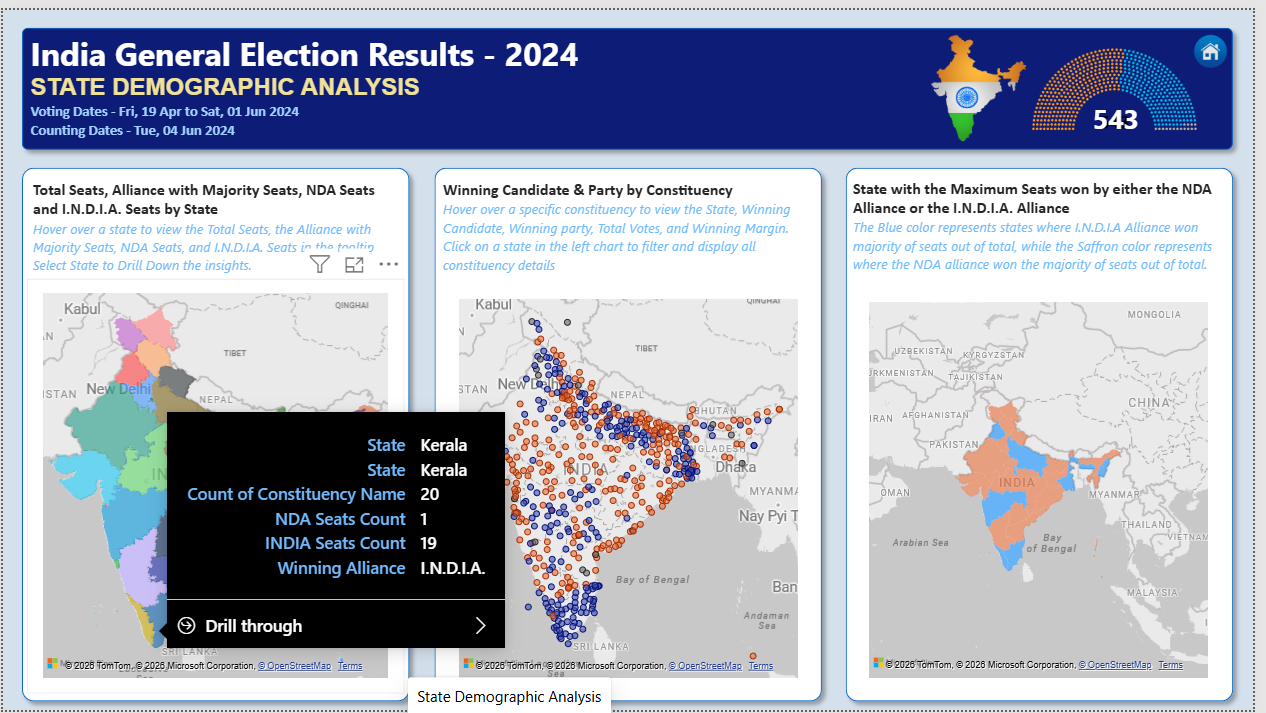

Layout of this report page (visuals, bound fields, positions):
{"tool":"powerbi","page":{"name":"State Demographic Analysis","canvas":[1250,700],"ordinal":2},"visuals":[{"type":"shape","box":[10,8.8,1228.8,140],"z":0},{"type":"textbox","box":[27.5,21.2,1113.8,116.2],"z":1000},{"type":"shape","box":[9.5,148.6,405.4,551.6],"z":2000},{"type":"image","box":[1026,16.6,170,126],"z":3000},{"type":"image","box":[923.7,3.6,101.1,148.6],"z":4000},{"type":"card","fields":{"Values":["Sum(partywise_results.Won)"]},"box":[1070,80.8,85.6,58.3],"z":5000},{"type":"shape","box":[422,148.6,405.4,551.6],"z":6000},{"type":"shape","box":[833.4,148.6,405.4,551.6],"z":7000},{"type":"textbox","box":[29.7,170,365,108.2],"z":8000},{"type":"filledMap","fields":{"Category":["states.State"],"Series":["states.State"]},"box":[23.8,268.7,376.9,414.9],"z":9000},{"type":"textbox","box":[439.9,170,370.9,98.7],"z":10000},{"type":"map","fields":{"Category":["states.State","statewise_results.Constituency"],"Series":["constituencywise_results.Party Alliance (results)"]},"box":[440,275,371.2,408.8],"z":11000},{"type":"textbox","box":[850,168.9,370.9,98.7],"z":12000},{"type":"filledMap","fields":{"Category":["states.State"],"Series":["states.Winning Alliance"]},"box":[850,277.8,371.1,405.6],"z":13000},{"type":"image","box":[1187.8,21.1,40,40],"z":13001}]}

Visuals, with their boxes in screenshot pixels (x1, y1, x2, y2), scaled from the page's 1250x700 canvas onto the 1266x713 screenshot:
shape: 10 9 1255 152
textbox: 28 22 1156 140
shape: 10 151 420 712
image: 1039 17 1211 145
image: 936 4 1038 155
card - Sum(partywise_results.Won): 1084 82 1170 142
shape: 427 151 838 712
shape: 844 151 1255 712
textbox: 30 173 400 283
filledMap - states.State x states.State: 24 274 406 696
textbox: 446 173 821 274
map - states.State x statewise_results.Constituency: 446 280 822 696
textbox: 861 172 1237 273
filledMap - states.State x states.Winning Alliance: 861 283 1237 696
image: 1203 21 1244 62
